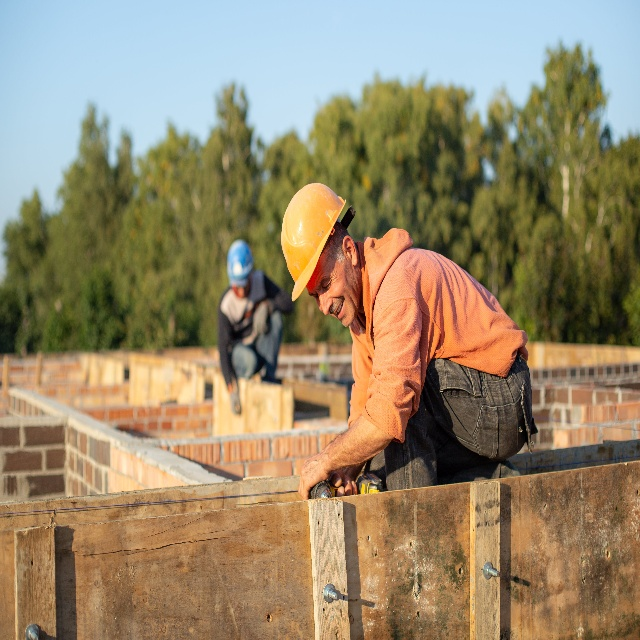Guantes: (251, 303, 270, 337), (233, 392, 242, 416)
Sin_guantes: (297, 452, 331, 497), (328, 470, 359, 497)
